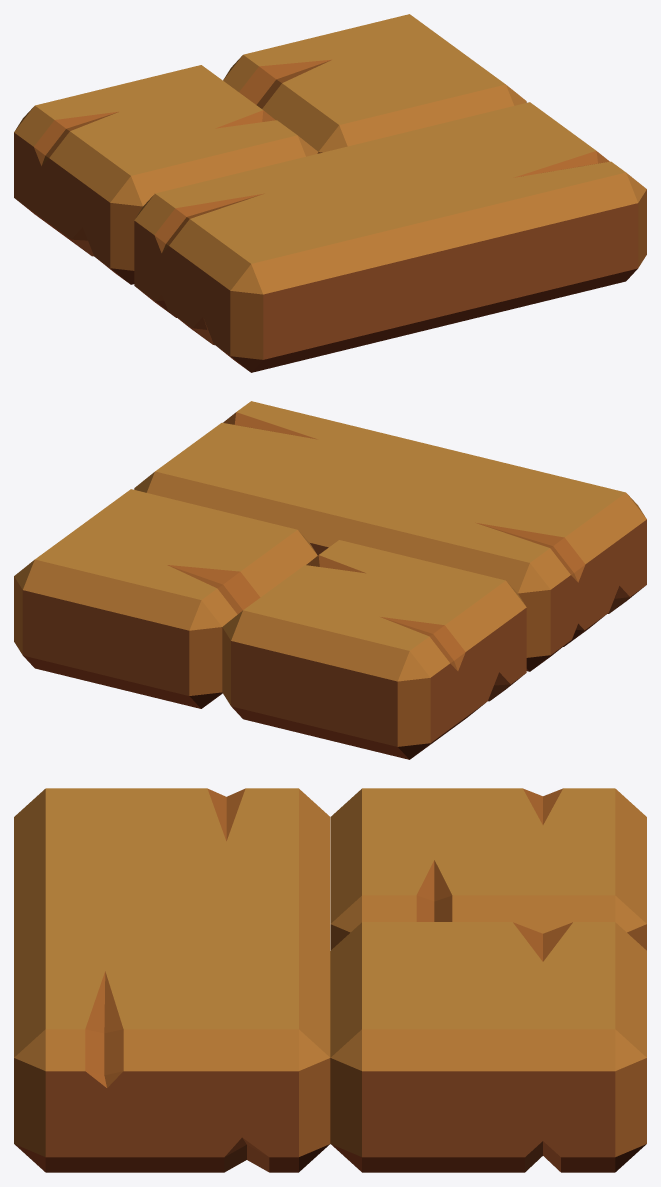
Rendered from m_kub_wood_flatMixed.FBX.
3 views of the same model, one above another, from view 1: azimuth 30°, elevation 25°; view 2: azimuth 150°, elevation 25°; view 3: azimuth 270°, elevation 25° (orthographic). The views are drawn at different scales.
Visible parts, largest first — view 1: m_kub_wood_flatMixed; view 2: m_kub_wood_flatMixed; view 3: m_kub_wood_flatMixed.
Boxes of the visible parts, x1=… form: m_kub_wood_flatMixed: x1=14, y1=14, x2=646, y2=372; m_kub_wood_flatMixed: x1=14, y1=401, x2=646, y2=759; m_kub_wood_flatMixed: x1=14, y1=788, x2=646, y2=1172.
Size of the model in its own units: 2 by 0.5 by 2.
